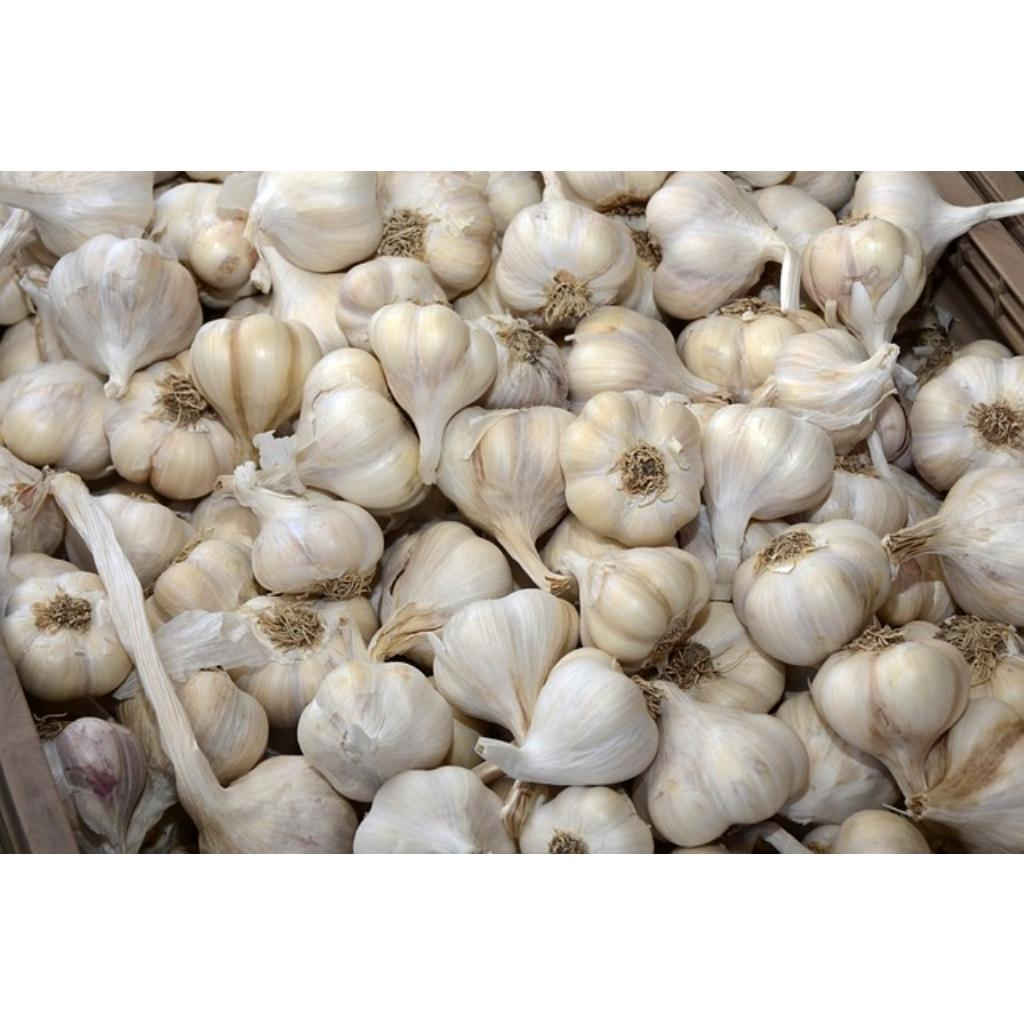garlic: (50, 474, 358, 851), (646, 680, 808, 845), (810, 638, 970, 798), (702, 406, 834, 599), (438, 406, 574, 591), (48, 234, 202, 397), (476, 646, 658, 783), (428, 588, 578, 743), (370, 302, 498, 483), (732, 518, 890, 664), (646, 170, 800, 317), (882, 466, 1024, 625), (496, 170, 636, 330), (560, 392, 704, 546), (296, 348, 426, 513), (298, 662, 452, 801), (368, 520, 512, 660), (234, 464, 384, 597), (230, 594, 378, 727), (104, 352, 238, 498), (190, 312, 322, 459), (560, 546, 710, 671), (750, 328, 898, 453), (0, 570, 132, 700), (566, 304, 728, 409), (910, 356, 1024, 489), (248, 170, 380, 271), (178, 670, 268, 783)
